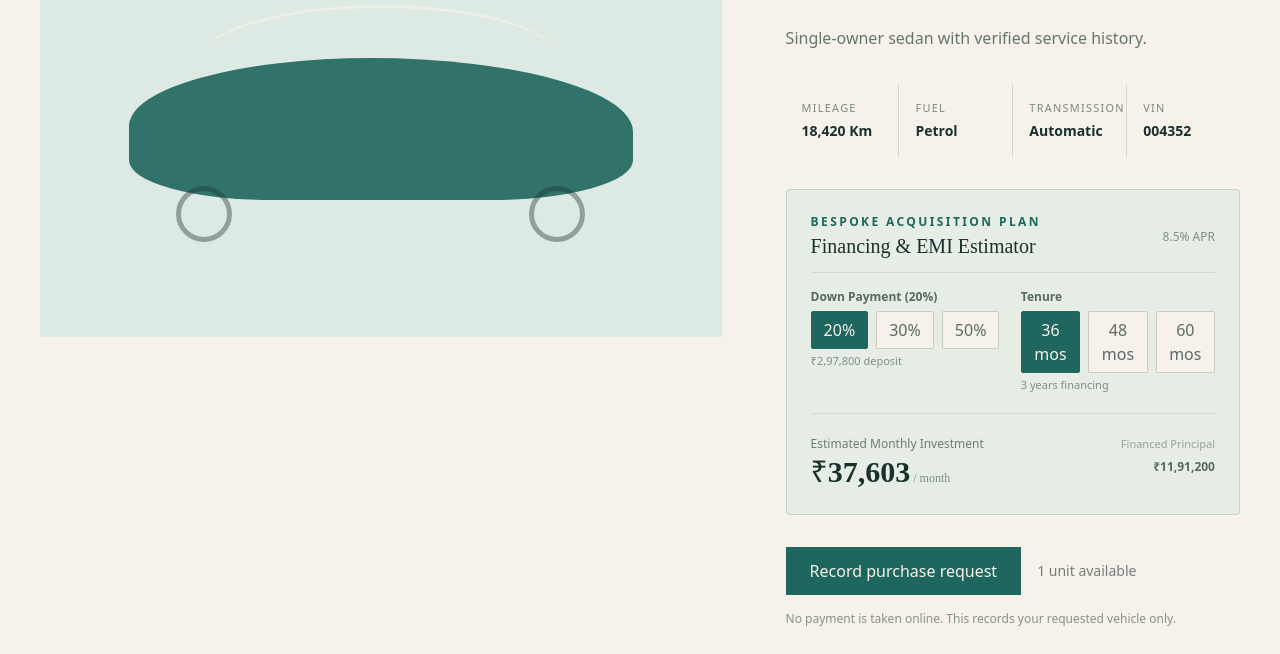
Test: vehicle detail page › presents one vehicle and records a deliberate single-unit purchase
(page scrolled)
Expected: the text "Single-owner sedan with verified service history." is shown, 786,27 -> 1147,49
What coordinates should you click on to do the following:
click the button "Record purchase request"
I would click on:
 (903, 571)
Its box is 786,547 -> 1021,595.
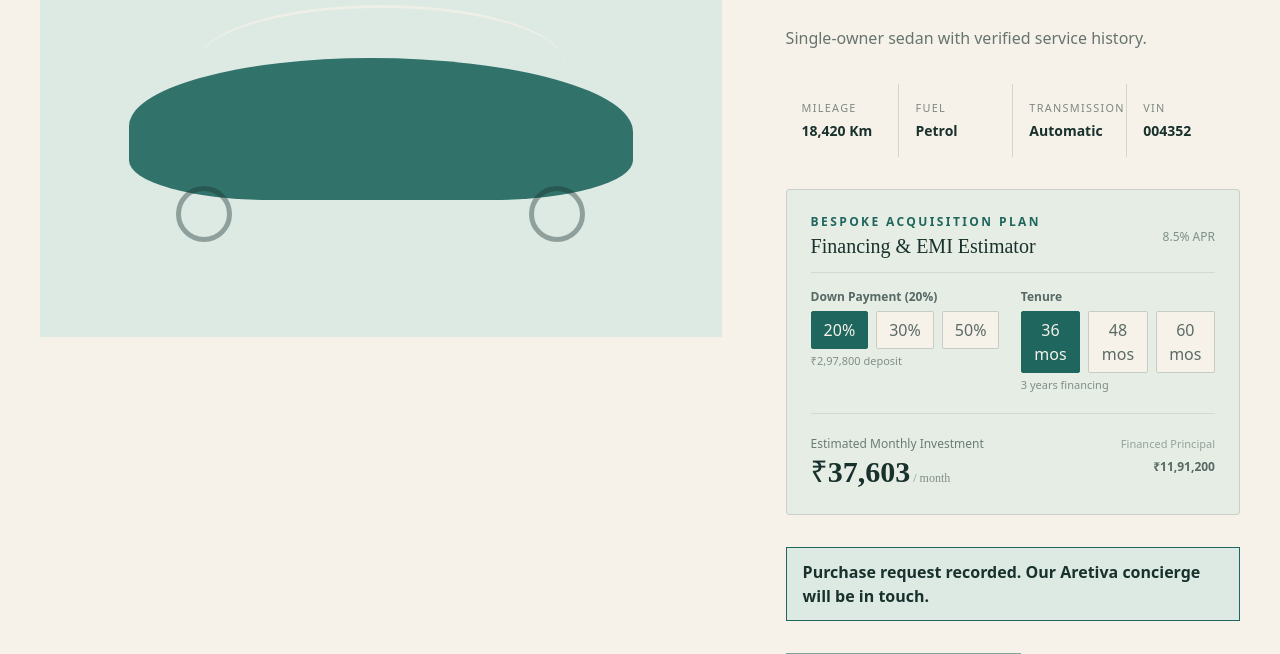
Expected: the message shows "Purchase request recorded.", 803,561 -> 1200,607
